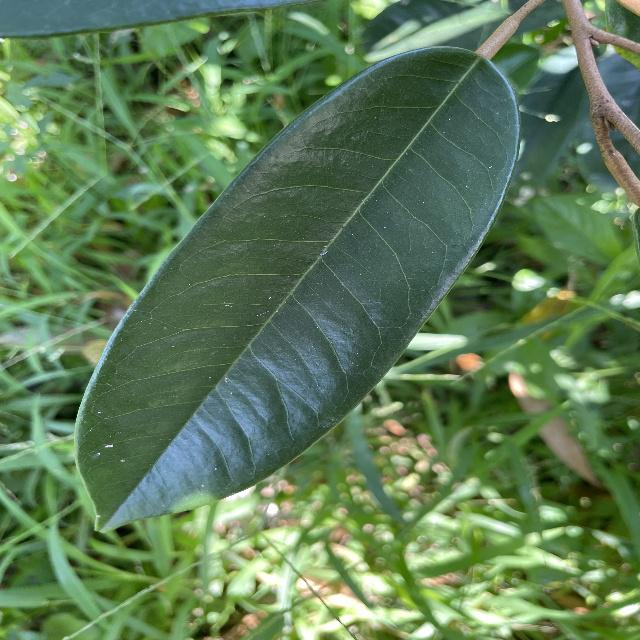No Disease: (67, 37, 526, 540)
